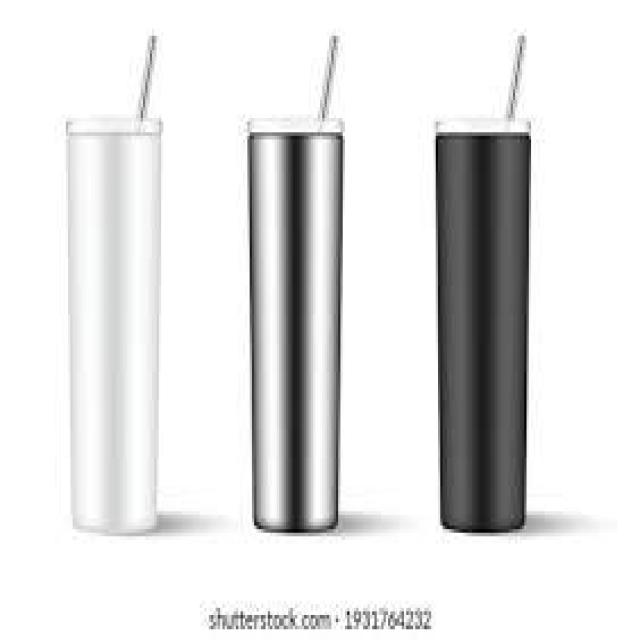bottle: (240, 38, 364, 542), (425, 30, 540, 542), (63, 32, 168, 544)
